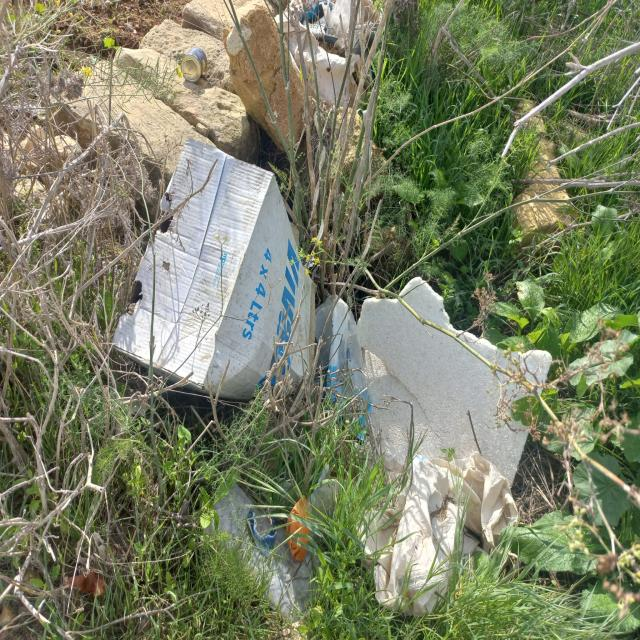Bottle: (201, 478, 328, 625), (306, 480, 341, 538)
Can: (179, 47, 208, 84)
Carton: (110, 138, 317, 400)
Other litter: (273, 0, 380, 105), (311, 295, 371, 442)
Other plastic: (357, 453, 518, 617), (284, 495, 311, 562), (246, 510, 277, 559)
Styrofoam piece: (356, 276, 553, 487)
